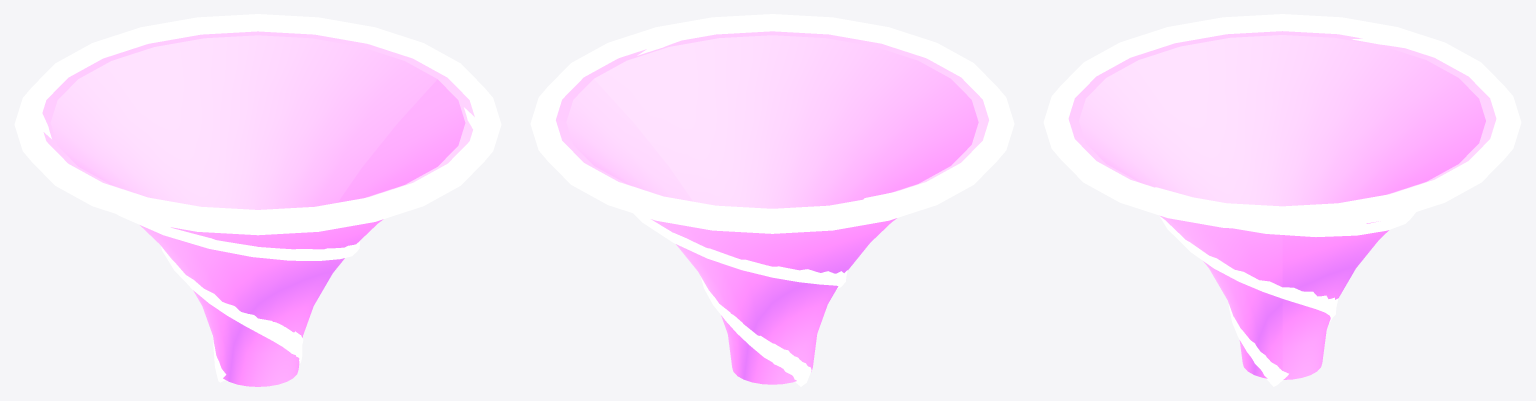
The model's file is vfx-mesh-library-wormhole-funnel-797025c8__21909.glb.
The picture shows the model from 3 angles, left to right: view 1: azimuth 30°, elevation 25°; view 2: azimuth 150°, elevation 25°; view 3: azimuth 270°, elevation 25°; orthographic projection.
Visible parts, largest first — view 1: wormhole-funnel; view 2: wormhole-funnel; view 3: wormhole-funnel.
Boxes of the visible parts, x1,y1,x2,y2 form: wormhole-funnel: [14, 14, 501, 386]; wormhole-funnel: [530, 14, 1014, 386]; wormhole-funnel: [1043, 14, 1521, 386].
Bounding box in the file's own units: 1.08 × 0.6481 × 1.08.
